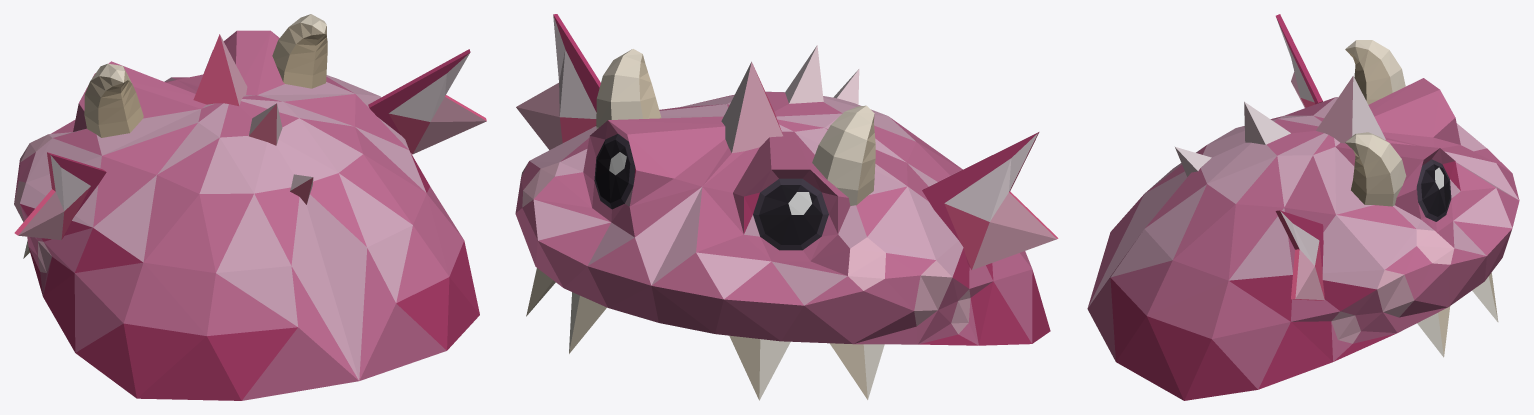
The model's file is Cosmetic_Dragon_Hat_Pink.glb.
The picture shows the model from 3 angles, left to right: view 1: azimuth 30°, elevation 25°; view 2: azimuth 150°, elevation 25°; view 3: azimuth 270°, elevation 25°; orthographic projection. The views are drawn at different scales.
Parts seen in each view (by area): view 1: Cosmetic_Dragon_Hat_Pink; view 2: Cosmetic_Dragon_Hat_Pink; view 3: Cosmetic_Dragon_Hat_Pink.
Part boxes in pixels (box(x1,y1,x2,y2)): Cosmetic_Dragon_Hat_Pink: box(14, 14, 486, 400); Cosmetic_Dragon_Hat_Pink: box(515, 14, 1058, 400); Cosmetic_Dragon_Hat_Pink: box(1087, 14, 1519, 400).
Size of the model in its own units: 1.46 by 0.7666 by 1.22.
